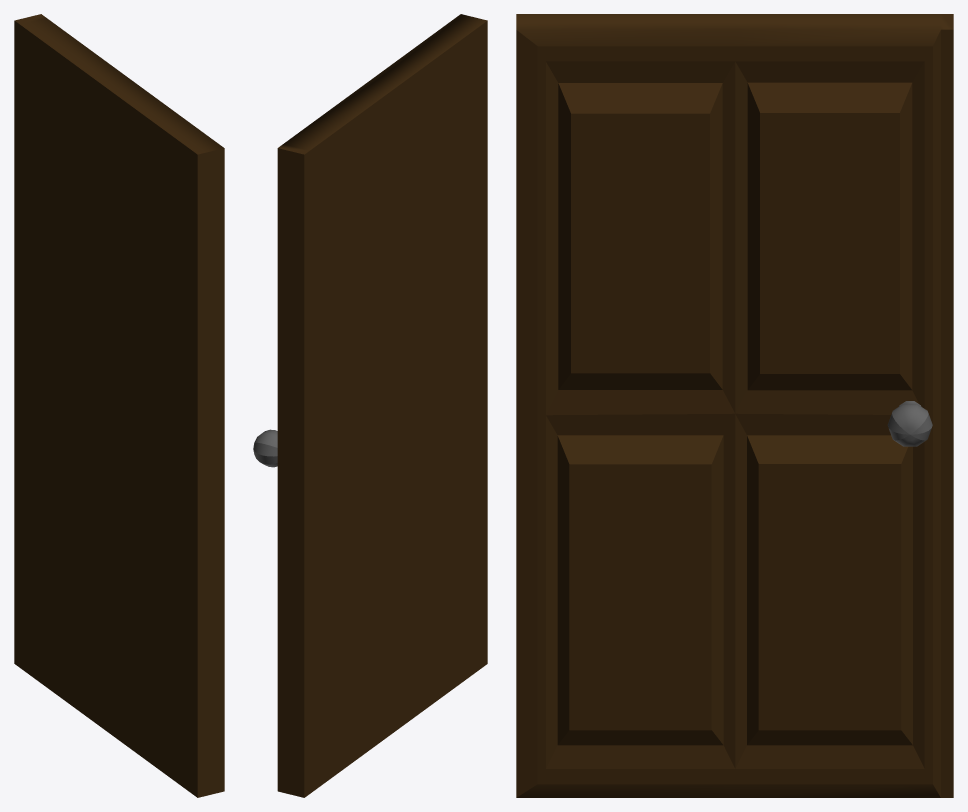
The model's file is UnwantedDoor.fbx.
The picture shows the model from 3 angles, left to right: view 1: azimuth 30°, elevation 25°; view 2: azimuth 150°, elevation 25°; view 3: azimuth 270°, elevation 25°; orthographic projection. The views are drawn at different scales.
Visible parts, largest first — view 1: Cube; view 2: Cube; view 3: Cube.
Part boxes in pixels (bbox=[...]): Cube: bbox=[14, 14, 224, 797]; Cube: bbox=[253, 14, 487, 797]; Cube: bbox=[516, 14, 953, 797].
Bounding box in the file's own units: 28.5 × 261 × 135.
